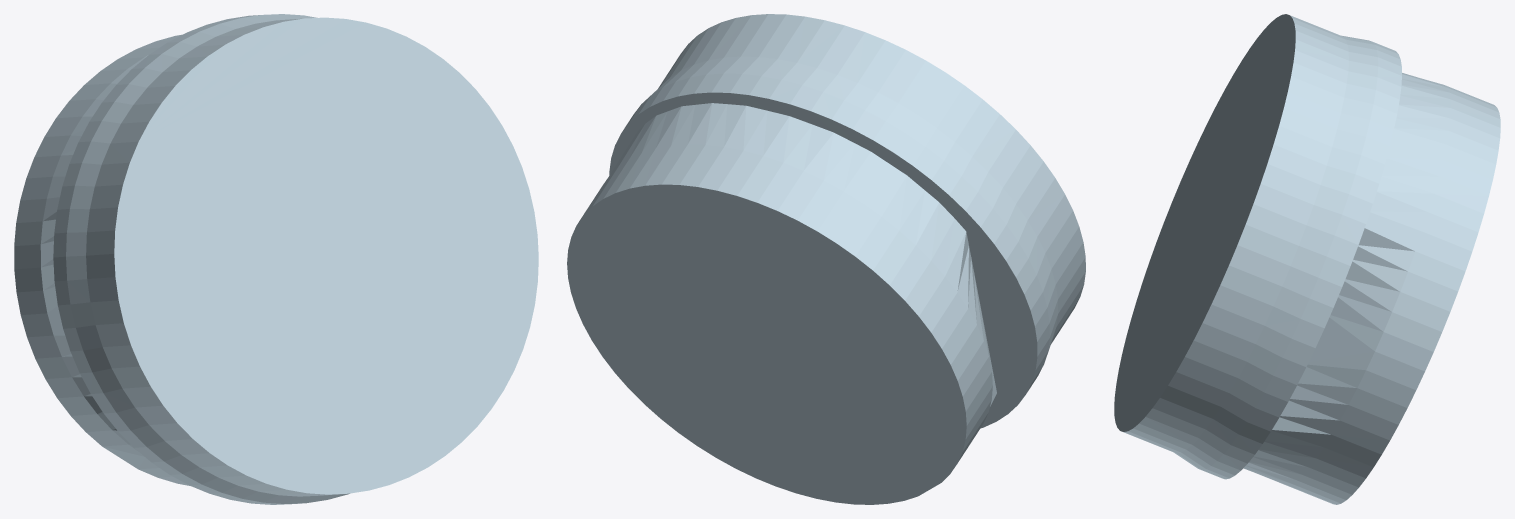
Rendered from right_wrist_z_link_visual_2.obj.balanced.glb.
3 renders of one model, left to right at view 1: azimuth 30°, elevation 25°; view 2: azimuth 150°, elevation 25°; view 3: azimuth 270°, elevation 25°, orthographic. The views are drawn at different scales.
Bounding box in the file's own units: 0.125 × 0.1331 × 0.1047.
